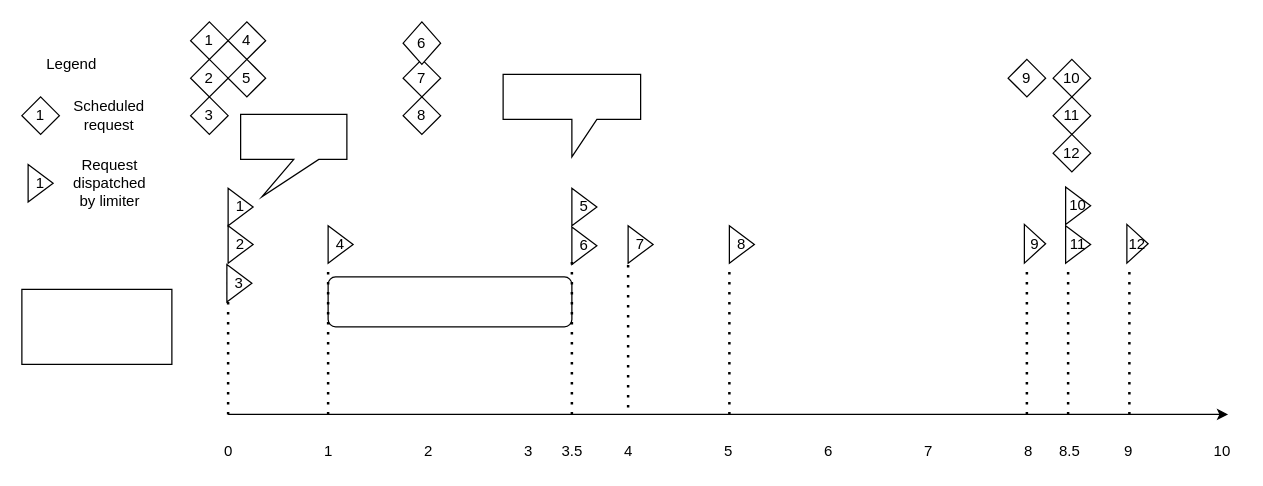
This 1263x486 diagram has some shape labels left out. Here are the shapes that lost their labels. From the top down, the centre of each, then its label:
the point at 571,115: Missed 2 drains, Max == capacity
the point at 293,155: capacity = 3
the point at 449,301: CPU - Heavy Task / Delay (2.5 seconds)
the point at 96,326: LeakyBucketLimiter (rate=1, capacity=3)
